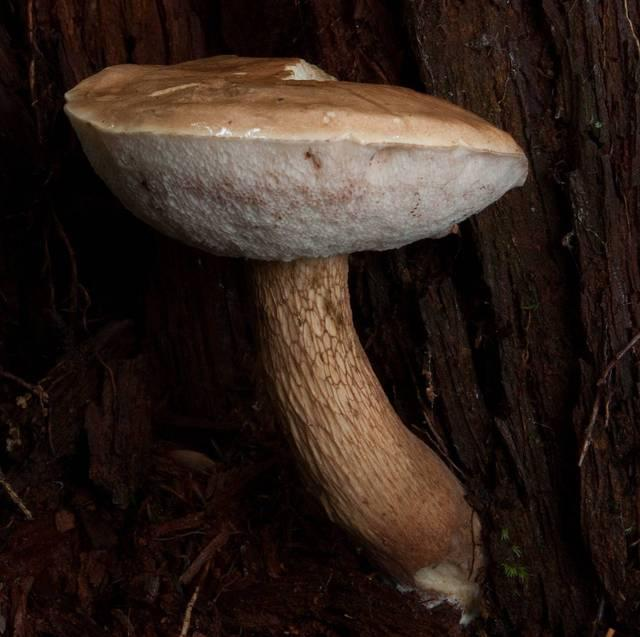poisonous_mushroom: (61, 52, 530, 623)
